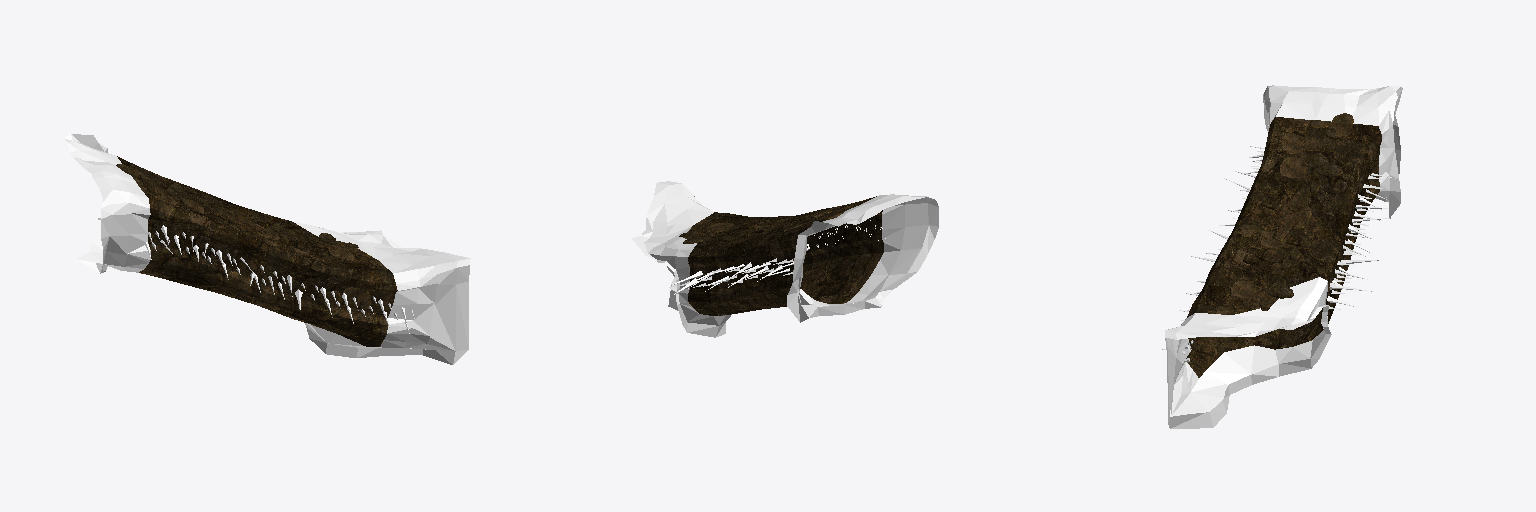
3 views of the same model, side by side, from view 1: azimuth 30°, elevation 25°; view 2: azimuth 150°, elevation 25°; view 3: azimuth 270°, elevation 25° (orthographic).
Visible parts, largest first — view 1: mesh2, mesh0, mesh3, mesh1; view 2: mesh2, mesh0, mesh3, mesh1; view 3: mesh2, mesh3, mesh0, mesh1.
Part boxes in pixels (bbox=[...]): mesh2: bbox=[117, 156, 397, 346]; mesh0: bbox=[65, 134, 470, 364]; mesh3: bbox=[77, 149, 437, 348]; mesh1: bbox=[116, 164, 358, 260]; mesh2: bbox=[683, 196, 883, 315]; mesh0: bbox=[632, 181, 938, 337]; mesh3: bbox=[662, 194, 927, 315]; mesh1: bbox=[679, 203, 857, 243]; mesh2: bbox=[1186, 117, 1381, 377]; mesh3: bbox=[1162, 102, 1399, 415]; mesh0: bbox=[1165, 85, 1402, 428]; mesh1: bbox=[1230, 113, 1353, 310].
Size of the model in its own units: 7.96 by 5 by 5.19.
4 materials, 1 textured.